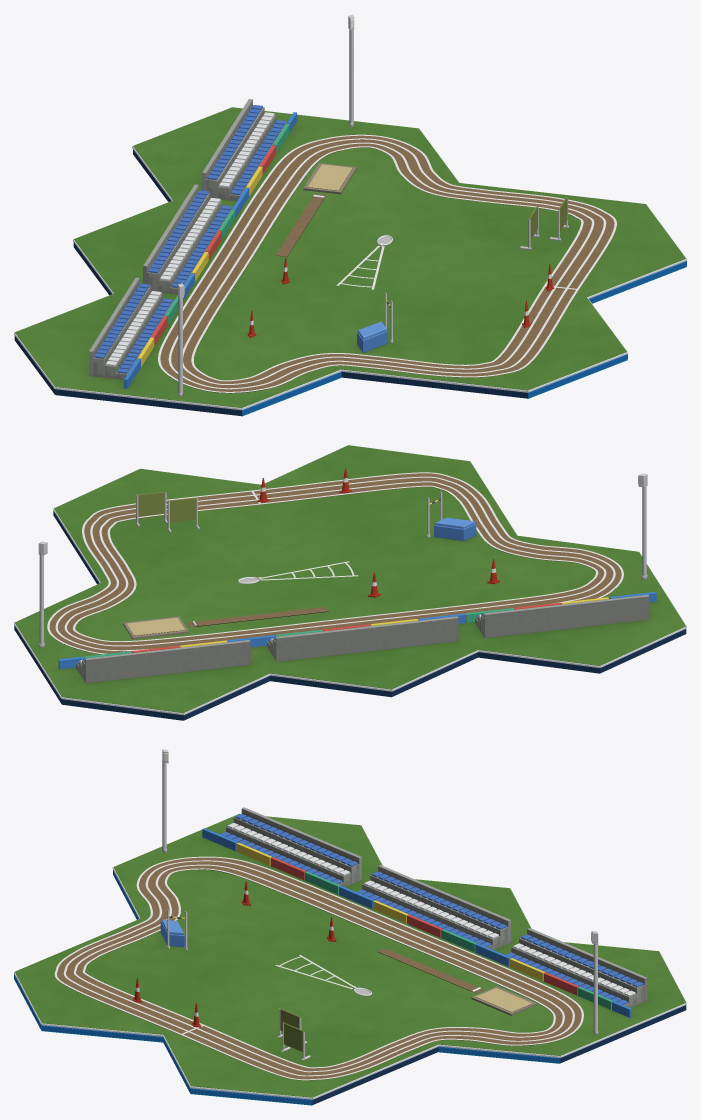
Rendered from field_cm03_01.glb.
3 renders of one model, top to bottom at view 1: azimuth 30°, elevation 25°; view 2: azimuth 150°, elevation 25°; view 3: azimuth 270°, elevation 25°, orthographic. The views are drawn at different scales.
Visible parts, largest first — view 1: field_cm03_01-refined; view 2: field_cm03_01-refined; view 3: field_cm03_01-refined.
Boxes of the visible parts, left/top/right/bottom form: field_cm03_01-refined: left=14, top=14, right=686, bottom=416; field_cm03_01-refined: left=14, top=445, right=686, bottom=720; field_cm03_01-refined: left=14, top=749, right=686, bottom=1105.
Bounding box in the file's own units: 19.17 × 3.45 × 19.17.
Materials: 1 (1 with a texture image).
